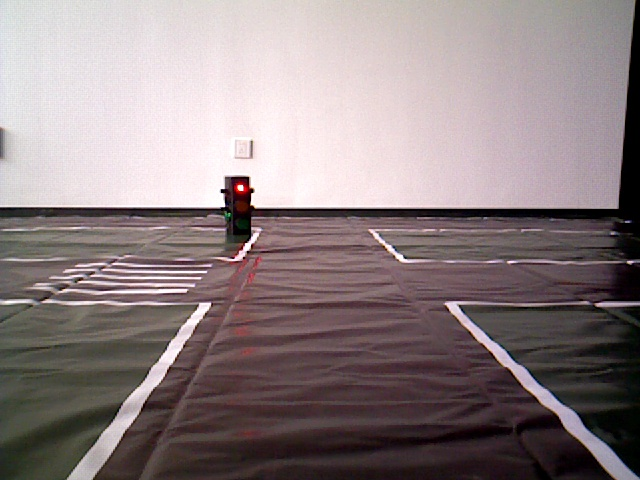red: (222, 178, 248, 235)
